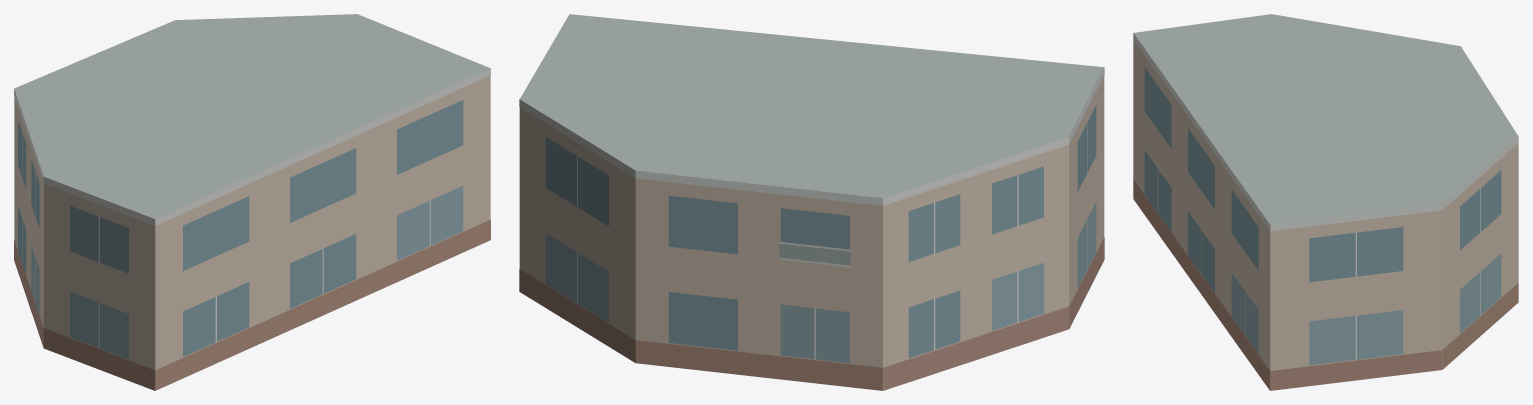
The model's file is survey-upis-33024351.glb.
The picture shows the model from 3 angles, left to right: view 1: azimuth 30°, elevation 25°; view 2: azimuth 150°, elevation 25°; view 3: azimuth 270°, elevation 25°; orthographic projection. The views are drawn at different scales.
Visible parts, largest first — view 1: survey-upis-33024351.tmp; view 2: survey-upis-33024351.tmp; view 3: survey-upis-33024351.tmp.
Boxes of the visible parts, x1,y1,x2,y2 form: survey-upis-33024351.tmp: (14, 14, 490, 390); survey-upis-33024351.tmp: (519, 14, 1104, 390); survey-upis-33024351.tmp: (1133, 14, 1518, 390).
Size of the model in its own units: 16.6 by 6.1 by 12.82.
